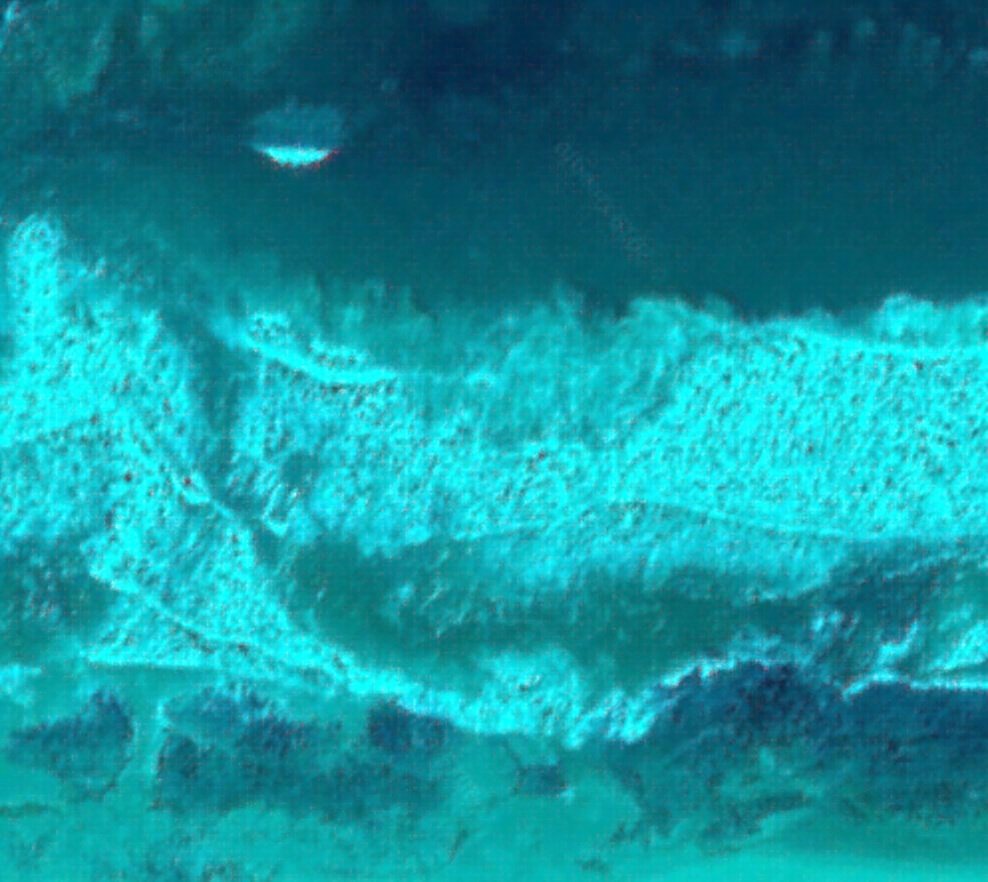rip_current: (125, 301, 703, 660)
